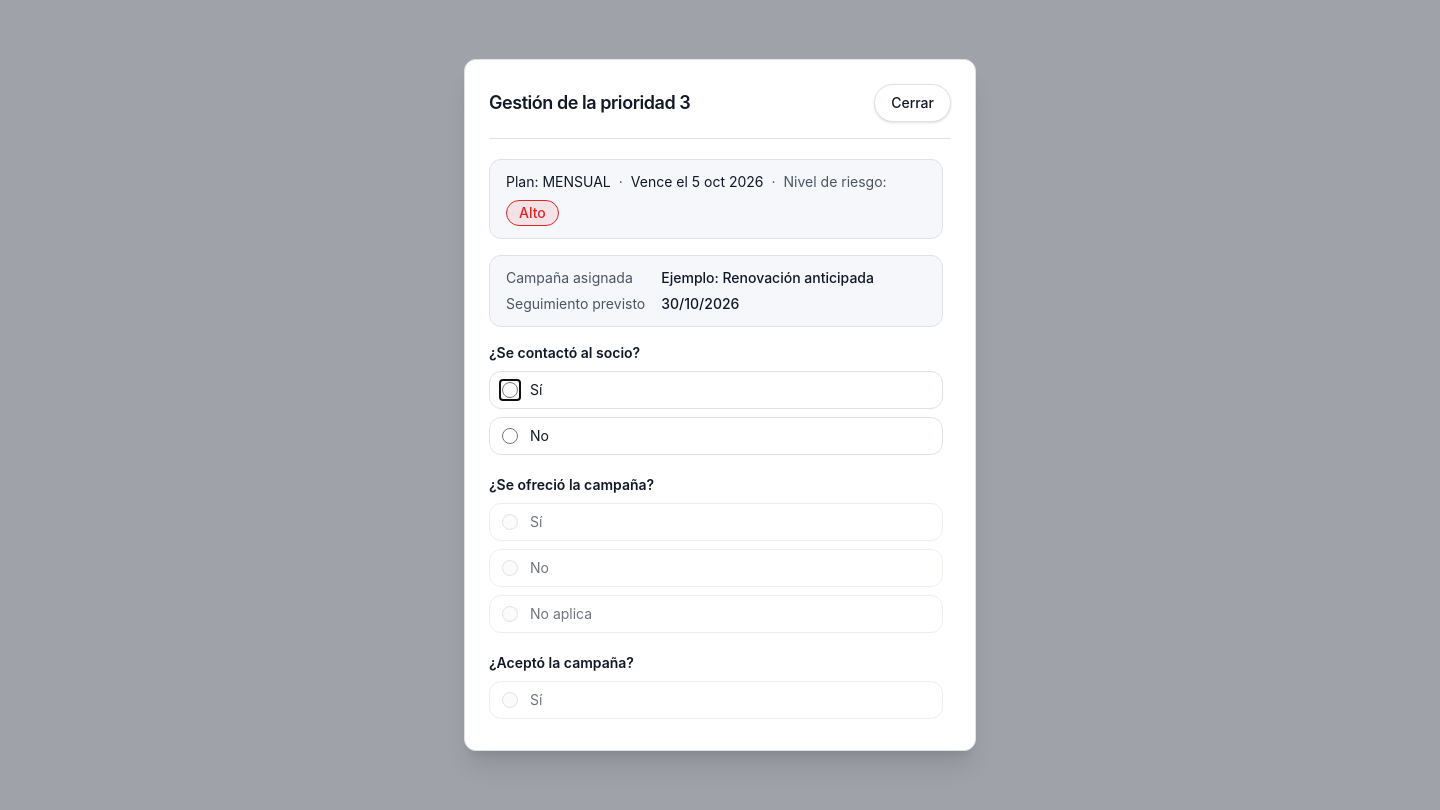
Test: FormularioGestion › parte 2: resultado de una gestion pendiente › elegir "No" en contactado deja oferta y aceptacion en "No aplica" y deshabilita las demas
Click the radio button labelled "No" below "¿Se contactó al socio?": (510, 436) left=502, top=428, right=518, bottom=444
(page scrolled)
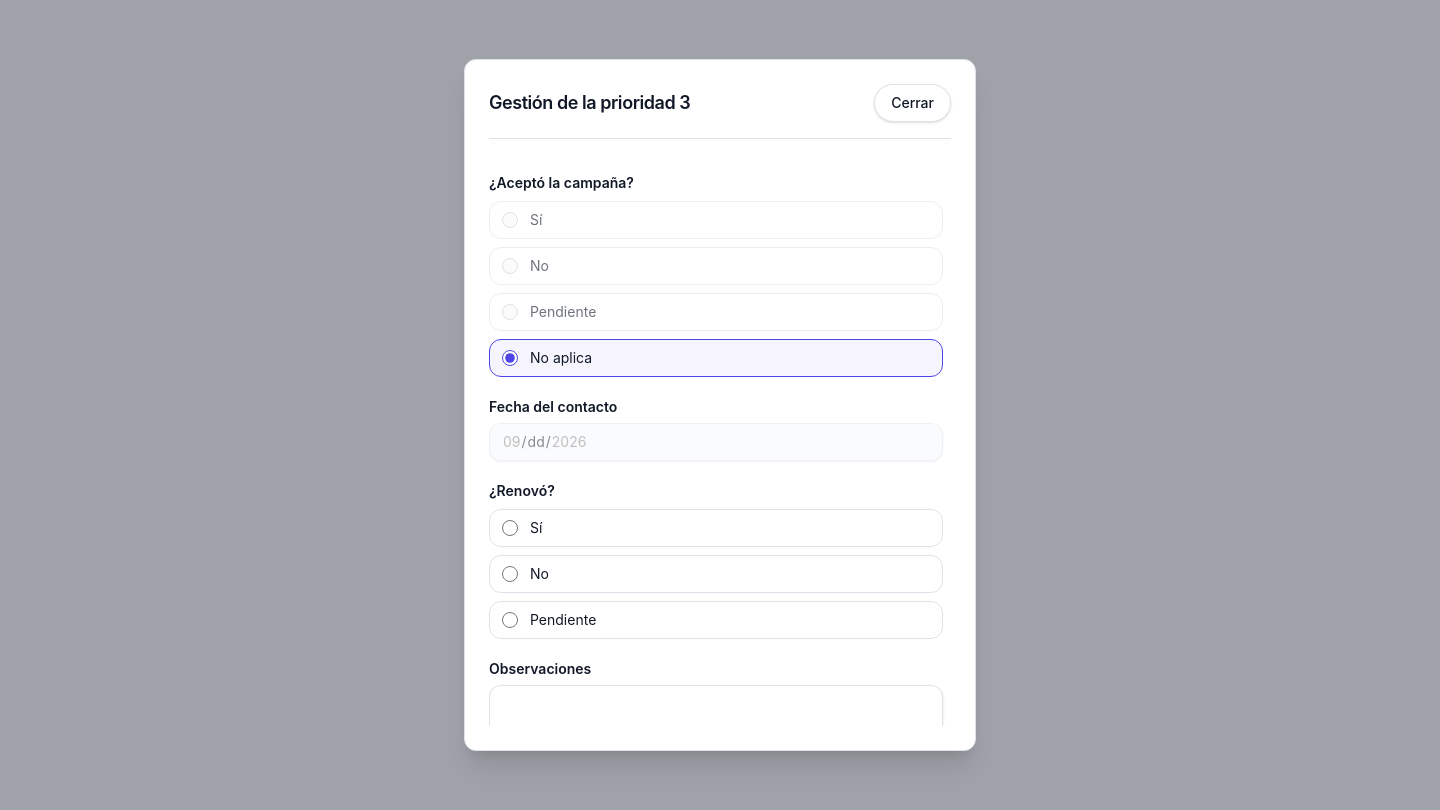
Expected: the radio button labelled "No aplica" is checked, left=502, top=350, right=518, bottom=366
Expected: the radio button labelled "No" below "¿Aceptó la campaña?" is disabled, left=502, top=258, right=518, bottom=274
Expected: the radio button labelled "Pendiente" below "¿Aceptó la campaña?" is disabled, left=502, top=304, right=518, bottom=320
